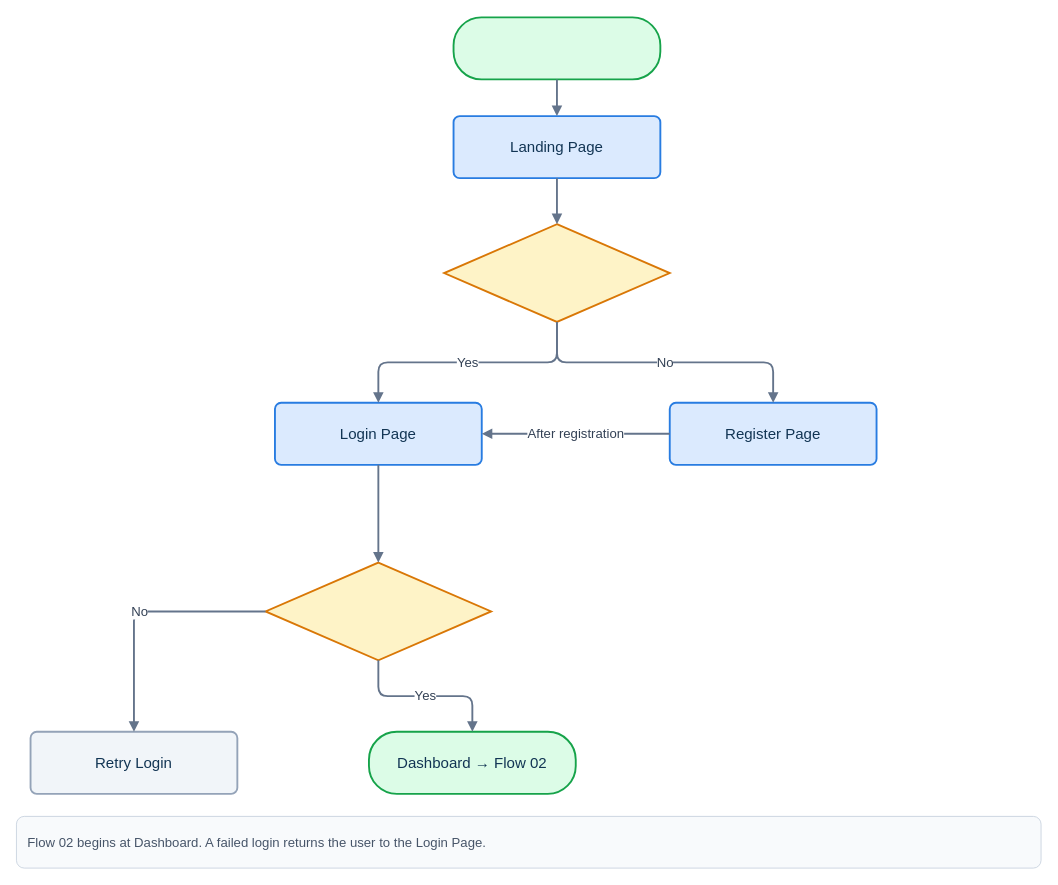
Some shapes in this 1058 by 885 pixel diagram are drawn without their labels. Each missing label, with the box of its shape:
Have an account?: (443, 223, 670, 322)
Login successful?: (264, 561, 492, 661)
Start: (452, 16, 661, 80)
